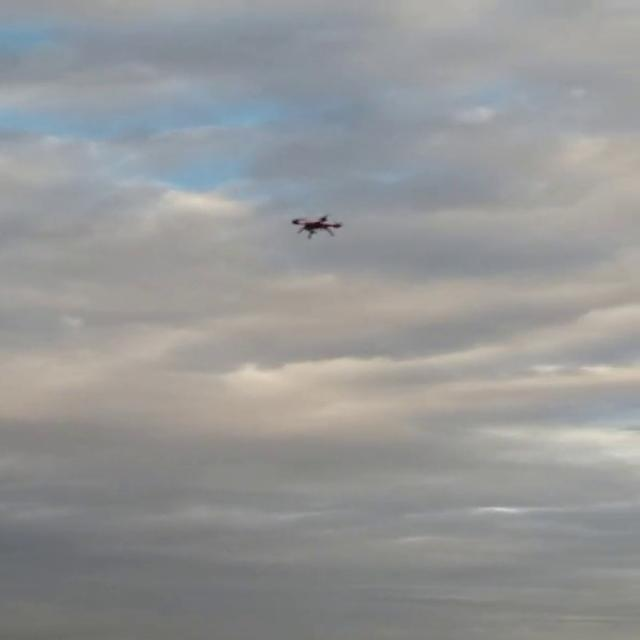drone: (286, 212, 344, 240)
